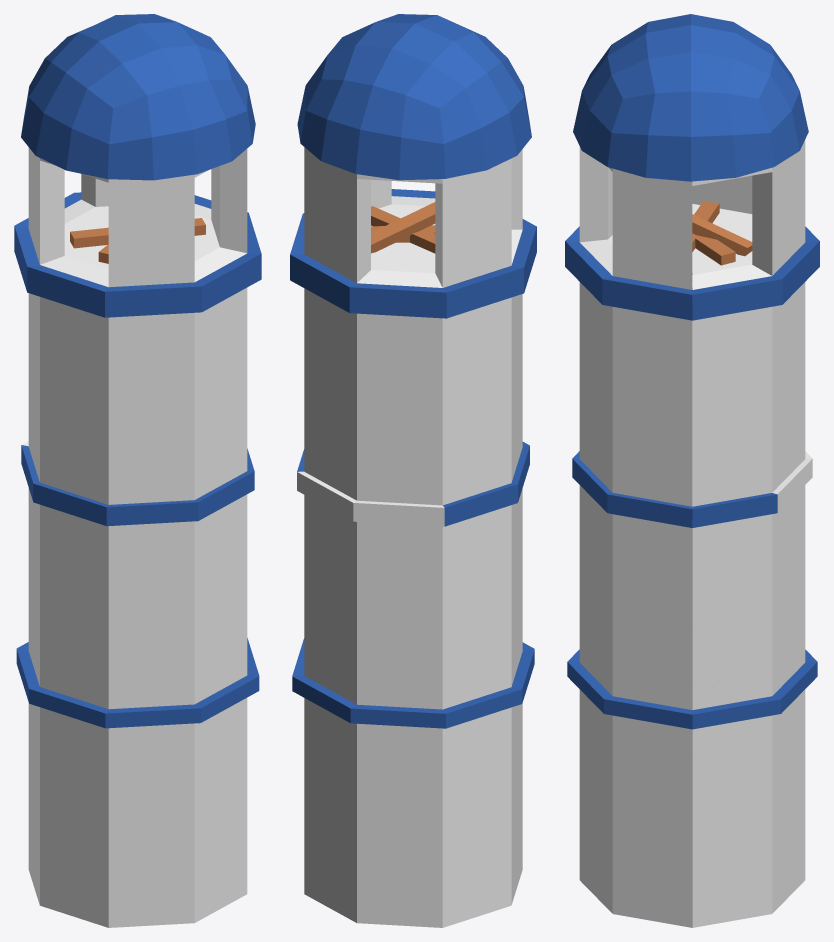
The model's file is tower.fbx.
The picture shows the model from 3 angles, left to right: view 1: azimuth 30°, elevation 25°; view 2: azimuth 150°, elevation 25°; view 3: azimuth 270°, elevation 25°; orthographic projection.
Visible parts, largest first — view 1: tower; view 2: tower; view 3: tower.
Part boxes in pixels (x1,y1,x2,y2): tower: (14,14,261,927); tower: (290,14,536,927); tower: (565,14,819,927).
Size of the model in its own units: 386 by 1431 by 386.
Materials: 1 (1 with a texture image).
